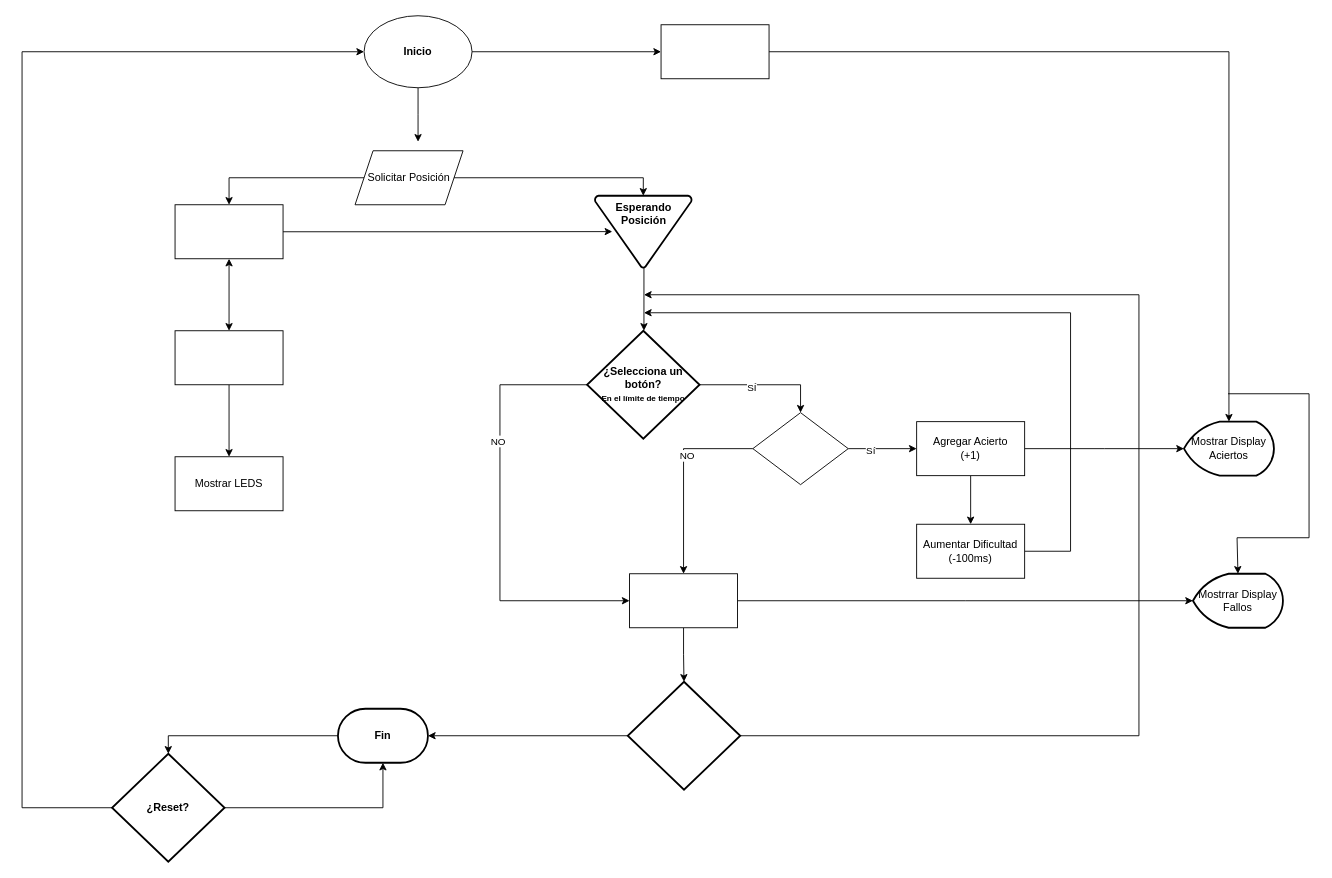
This 1332x878 diagram has some shape labels left out. Here are the shapes that lost their labels. From the top down, the box of each, then its label:
(660, 24, 769, 79): Resetear Displays (y Registros)
(174, 204, 283, 259): Transmitir/Recibir UART
(174, 330, 283, 385): Generar Posición
(752, 412, 848, 485): ¿Es correcto?
(629, 573, 738, 628): Agregar Fallo (+1)
(626, 680, 741, 790): ¿Tiene menos de 3 fallos?
